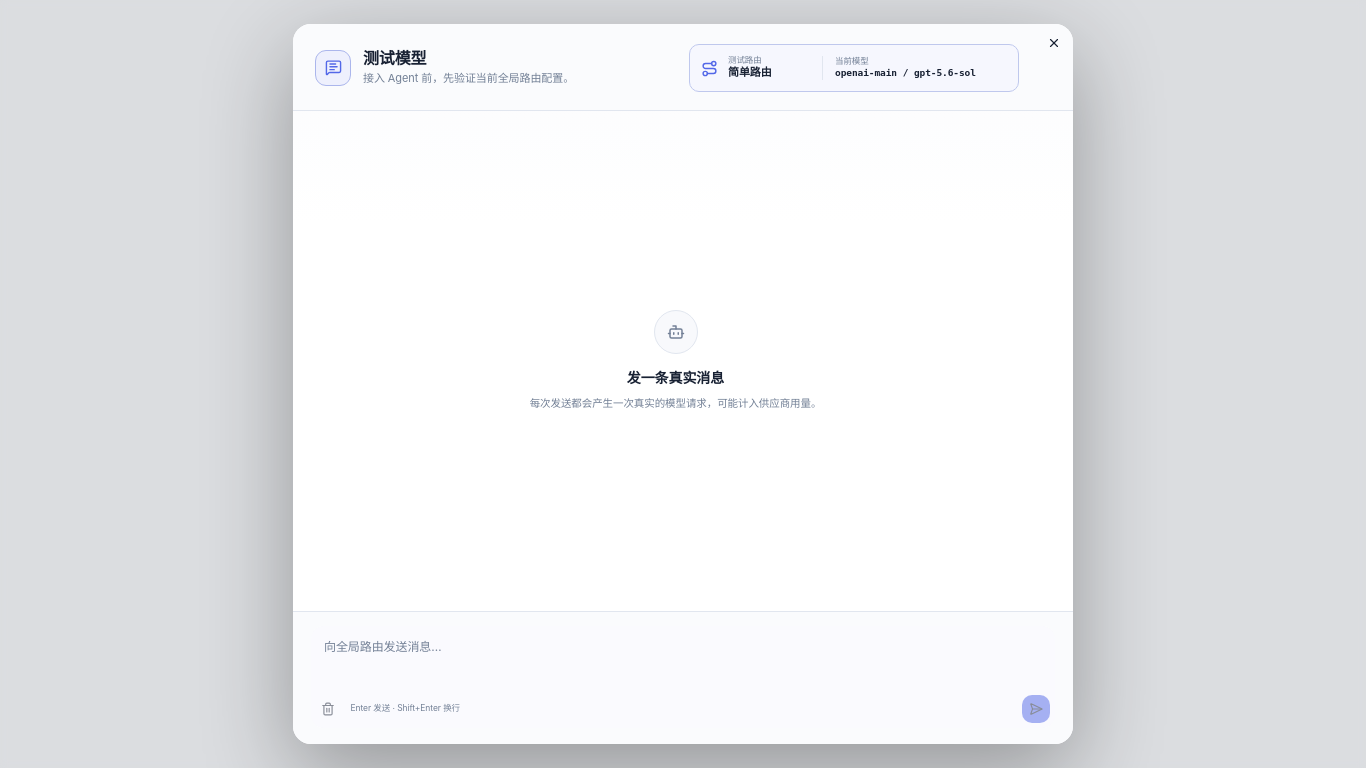
it: ModelTestConsole › renders real deltas before completion and shows first-text and total latency
In the text box labelled "消息": (683, 658) left=311, top=626, right=1055, bottom=690, type "只回复：连接正常"
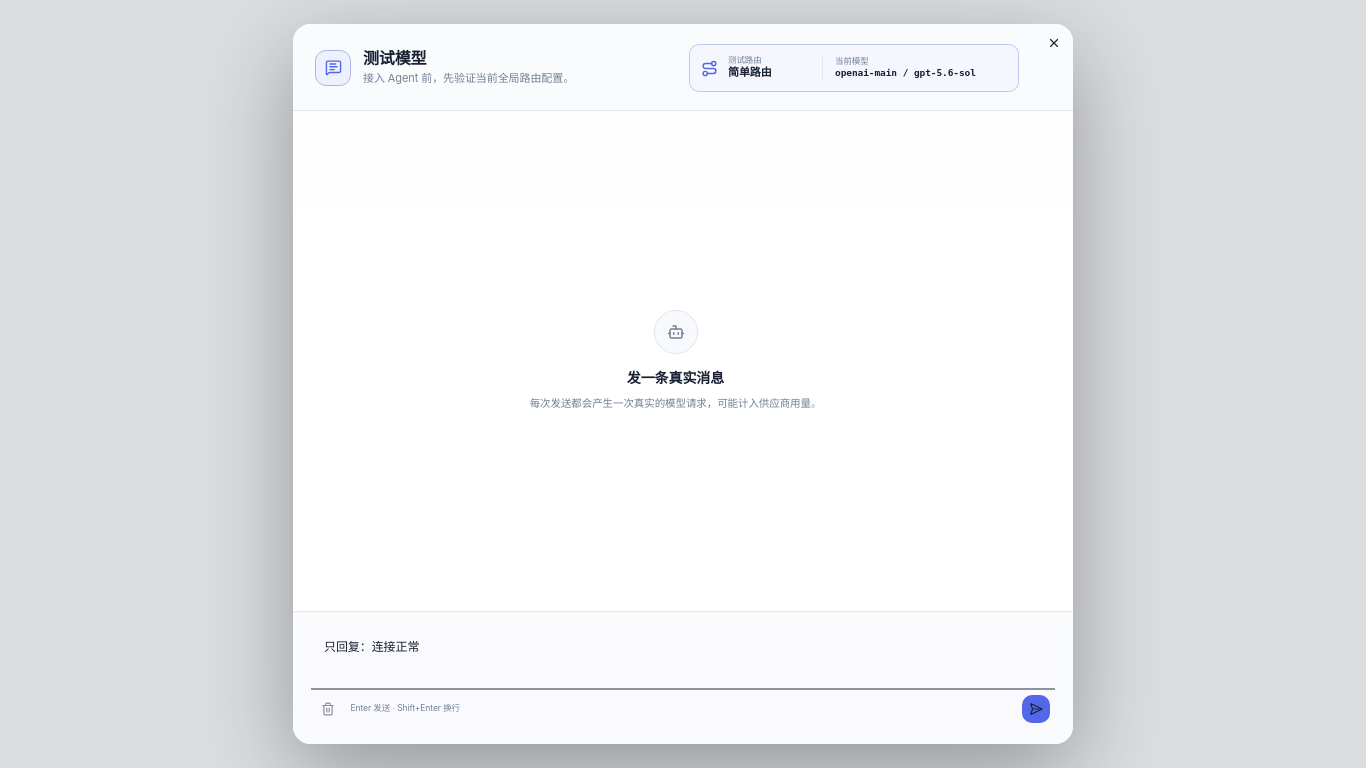
Press Enter
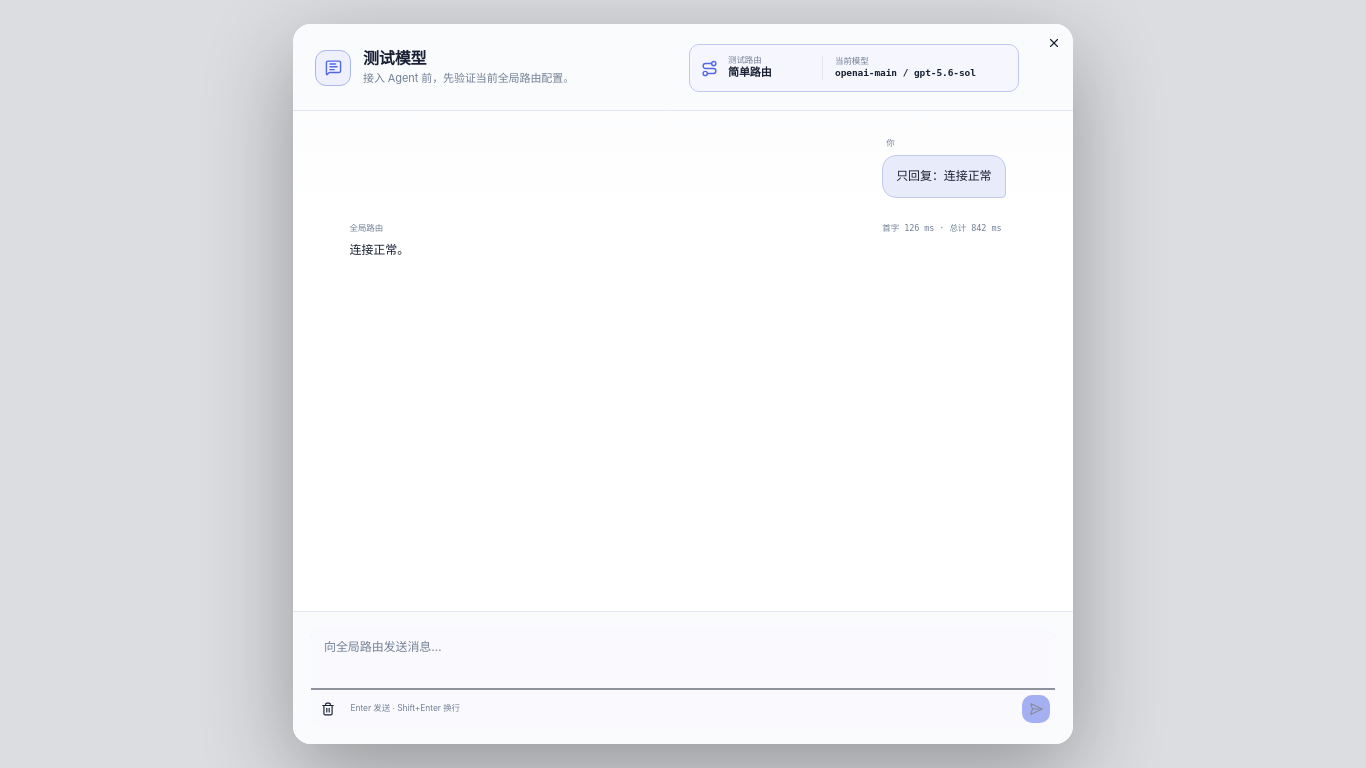
Result: the text "连接正常。" is shown at left=350, top=242, right=409, bottom=257
Result: the text "首字 126 ms · 总计 842 ms" is shown at left=882, top=222, right=1002, bottom=234
Result: the text box labelled "消息" is empty at left=311, top=626, right=1055, bottom=690
